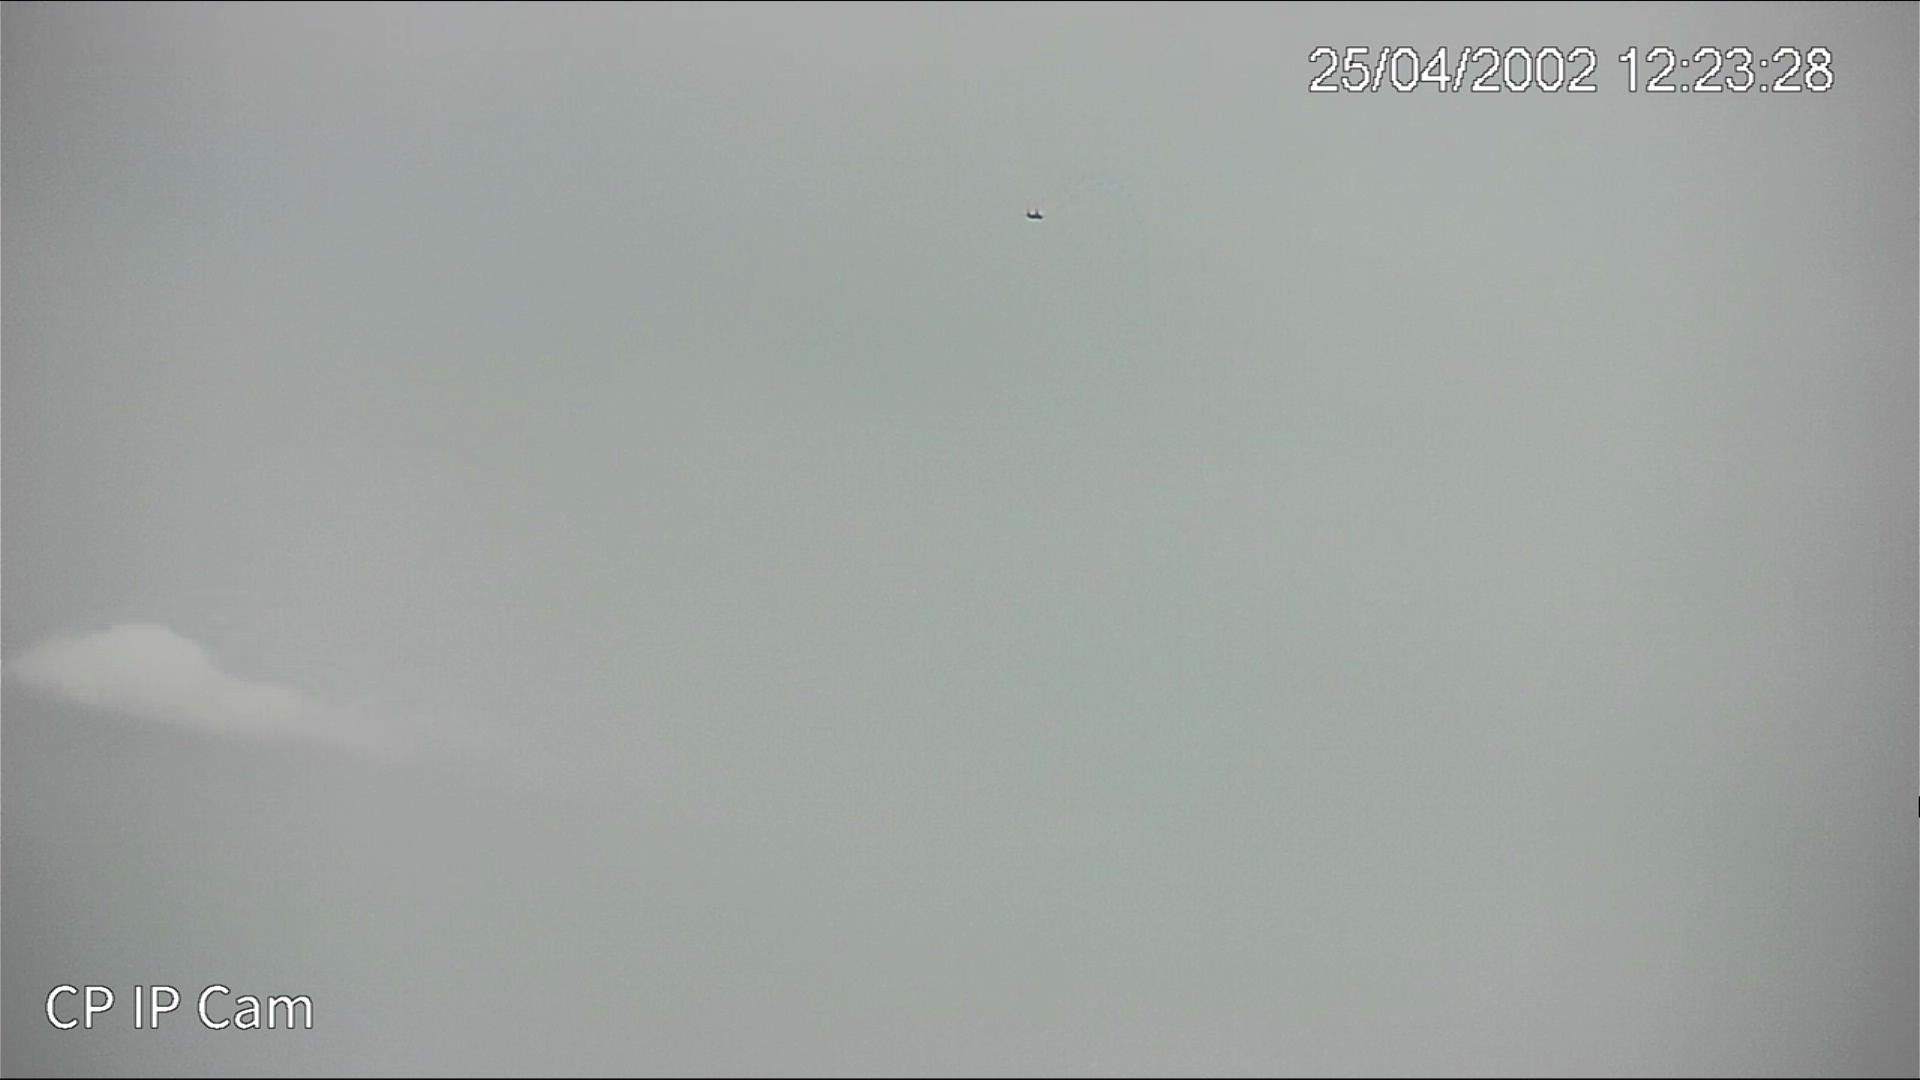SU_30: (1025, 208, 1046, 222)
